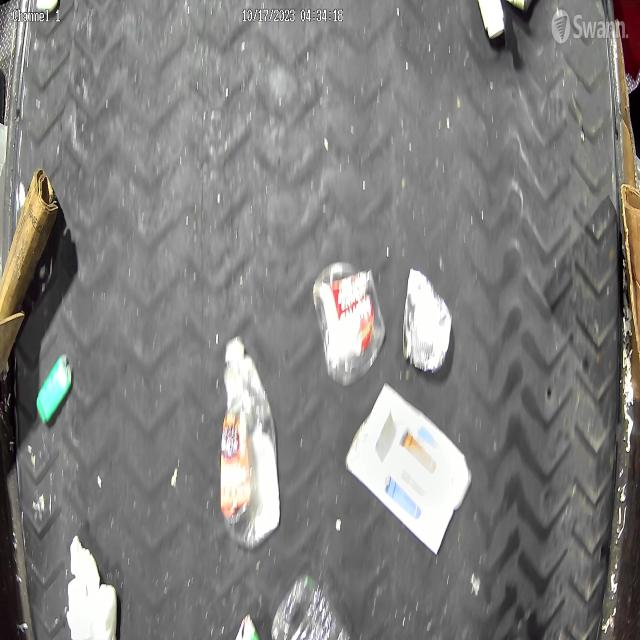can: (403, 264, 453, 373)
plastic_bottle: (220, 335, 282, 549)
